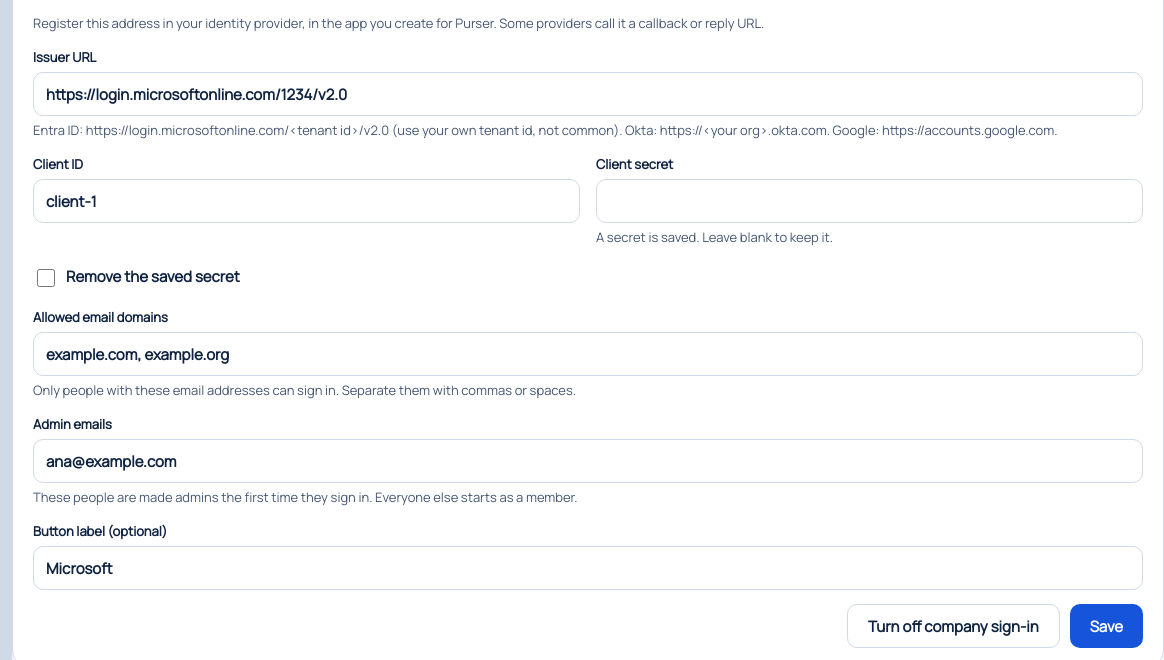
it: SignInSettings › keeps the saved secret when the box is left blank
(page scrolled)
Expected: the field labelled "Issuer URL" holds "https://login.microsoftonline.com/1234/v2.0", left=33, top=72, right=1143, bottom=116
Expected: the field labelled "Allowed email domains" holds "example.com, example.org", left=33, top=332, right=1143, bottom=376
Step 1. Click the button "Save" → [1106, 626], box left=1070, top=604, right=1143, bottom=648
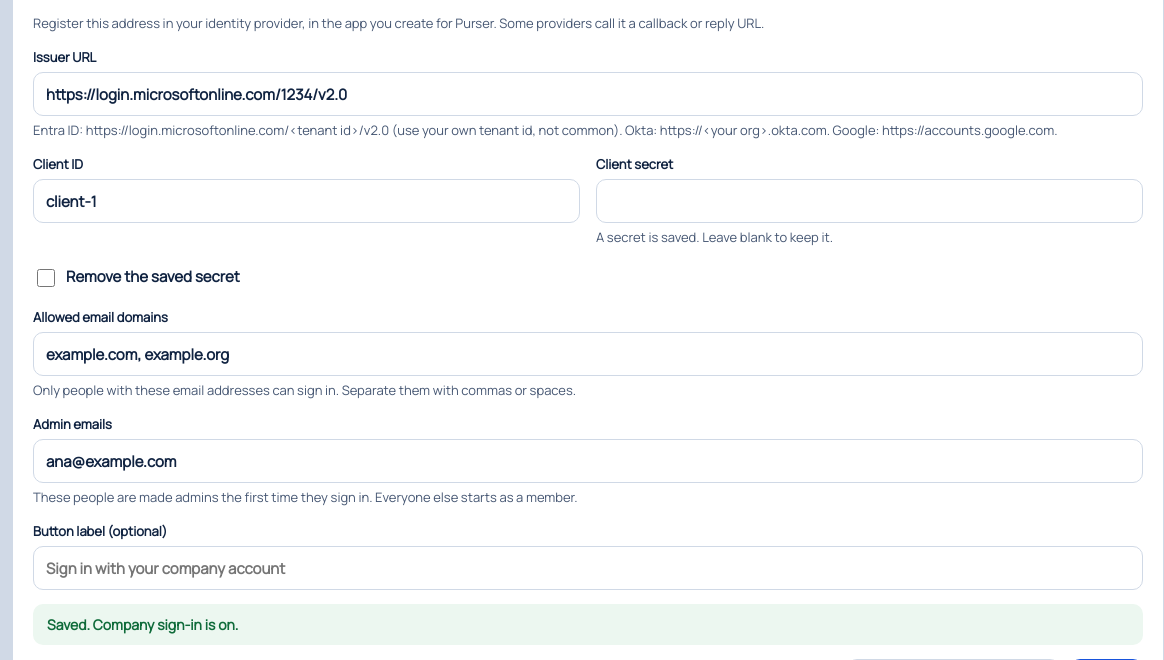
Expected: the message "Saved. Company sign-in is on." is shown, left=33, top=604, right=1143, bottom=645
